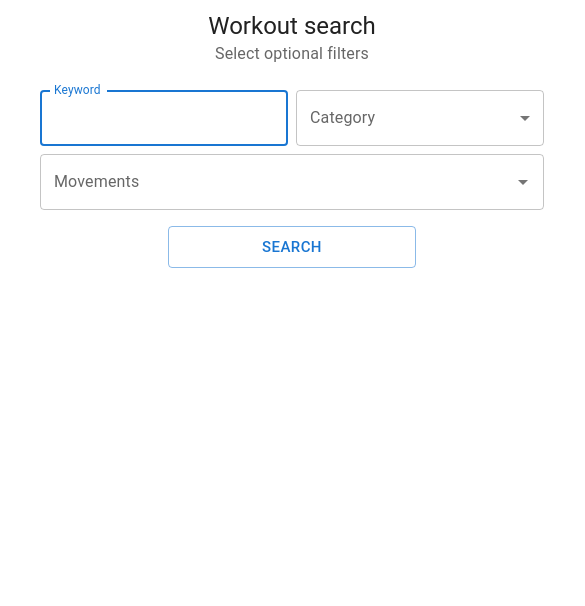
Scenario: renders workout search results
Click the button "Search" at (292, 247), box [168,226,416,268]
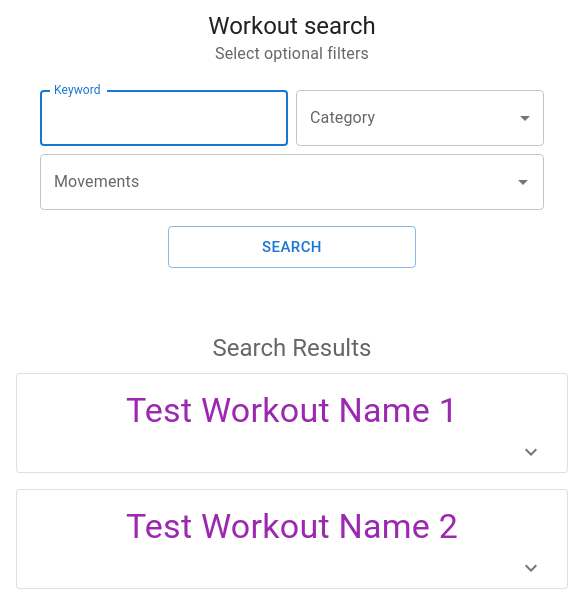
Check: the heading "Test Workout Name 1" is shown, box [126,390,458,430]
Check: the heading "Test Workout Name 2" is shown, box [126,506,458,546]
